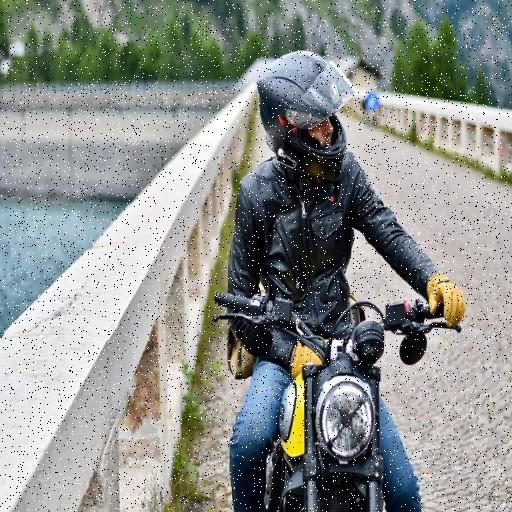Helmet: (240, 37, 366, 182)
Motor: (201, 287, 445, 512)
